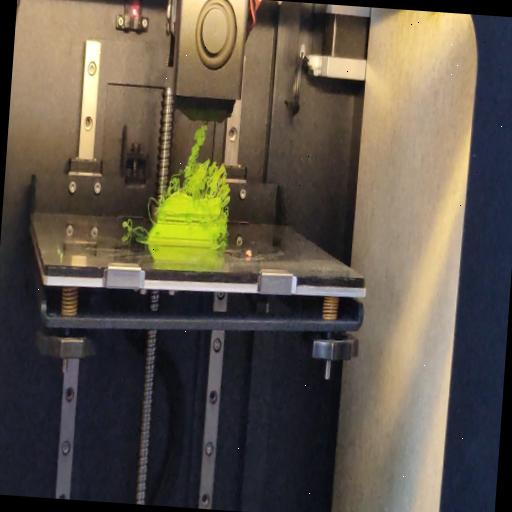spaghetti: (170, 120, 234, 200), (120, 218, 150, 236), (148, 192, 159, 226), (216, 238, 225, 254)
